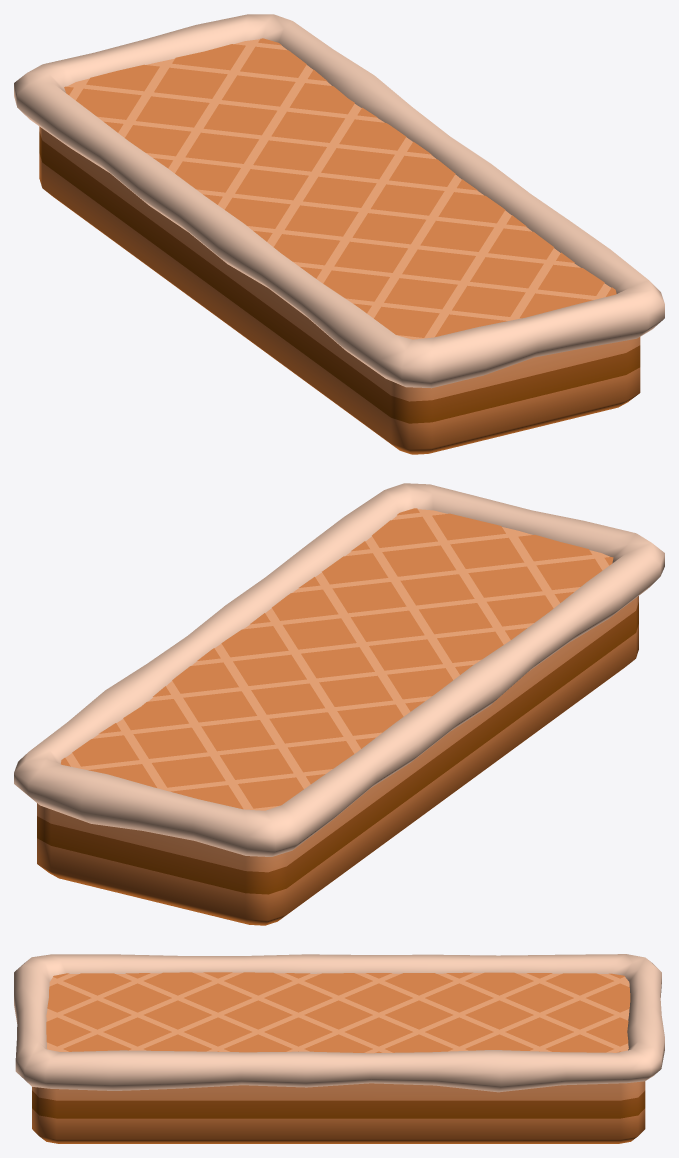
The model's file is Cake_04.glb.
The picture shows the model from 3 angles, top to bottom: view 1: azimuth 30°, elevation 25°; view 2: azimuth 150°, elevation 25°; view 3: azimuth 270°, elevation 25°; orthographic projection. The views are drawn at different scales.
Visible parts, largest first — view 1: Cake_04; view 2: Cake_04; view 3: Cake_04.
Boxes of the visible parts, x1,y1,x2,y2 form: Cake_04: (14, 14, 664, 454); Cake_04: (14, 483, 664, 925); Cake_04: (14, 954, 664, 1143).
Bounding box in the file's own units: 2.33 × 0.903 × 5.65.
1 material, 1 textured.
